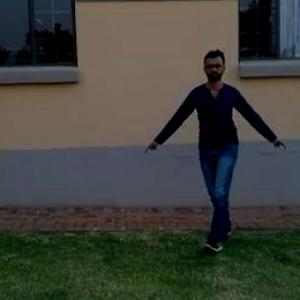land: (165, 58, 275, 225)
